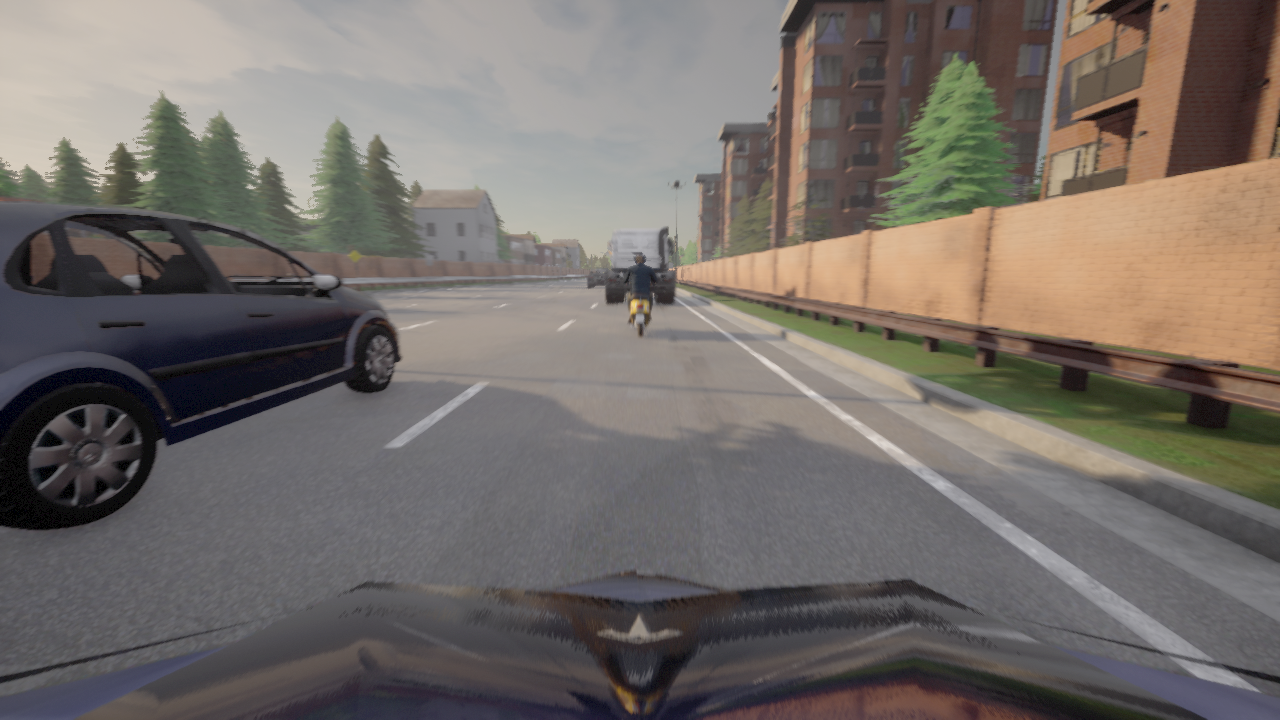cyclist: (0, 569, 1279, 719), (605, 226, 674, 303), (619, 272, 660, 336), (588, 268, 608, 286)
